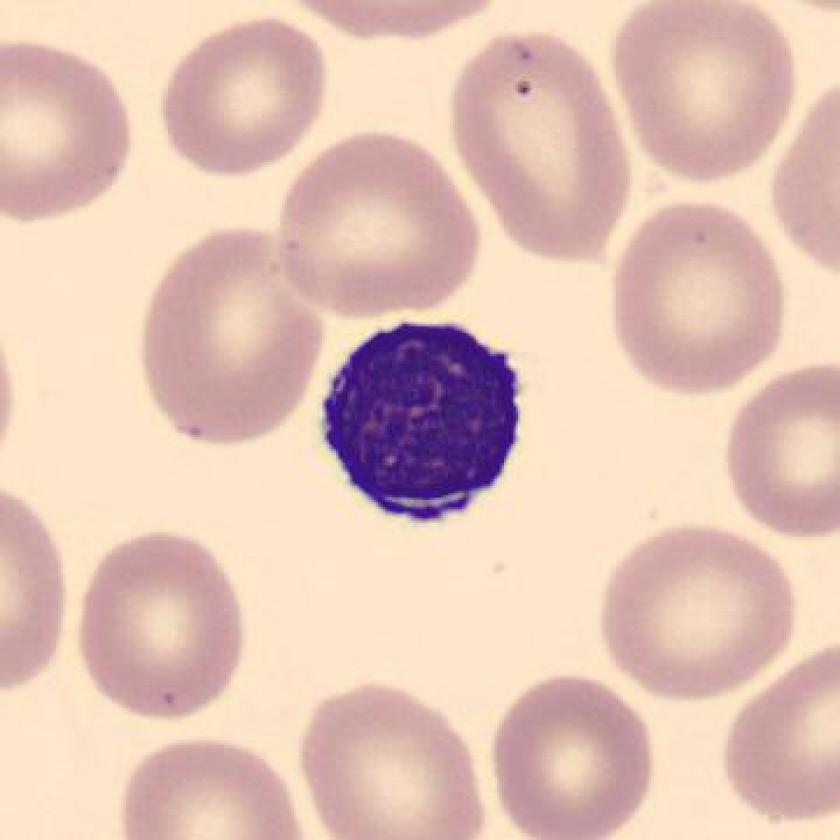lymphocyte: (314, 309, 540, 531)
